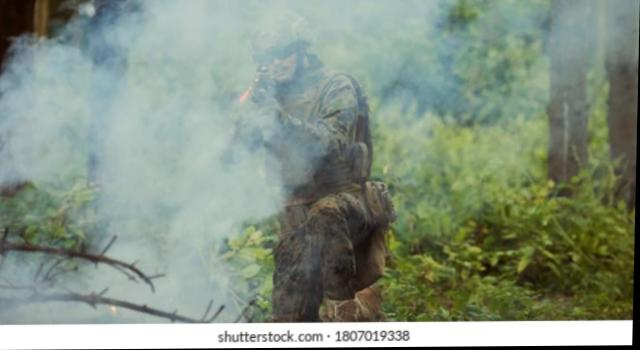other: (234, 12, 392, 320)
